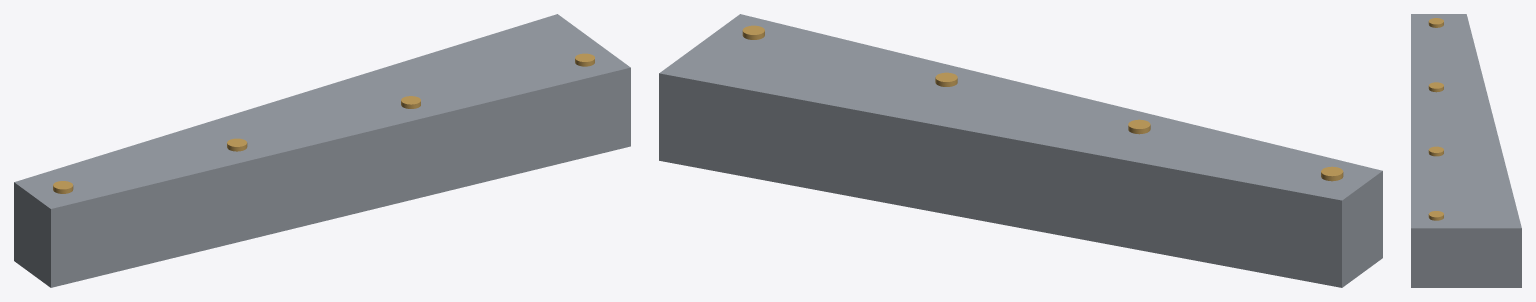
File: combbase.glb
3 renders of one model, left to right at view 1: azimuth 30°, elevation 25°; view 2: azimuth 150°, elevation 25°; view 3: azimuth 270°, elevation 25°, orthographic. The views are drawn at different scales.
Visible parts, largest first — view 1: combbase; view 2: combbase; view 3: combbase.
Boxes of the visible parts, <box> form: combbase: <box>14,14,630,287</box>; combbase: <box>659,14,1382,287</box>; combbase: <box>1411,14,1521,287</box>.
Size of the model in its own units: 0.2 by 0.0275 by 0.0437.
